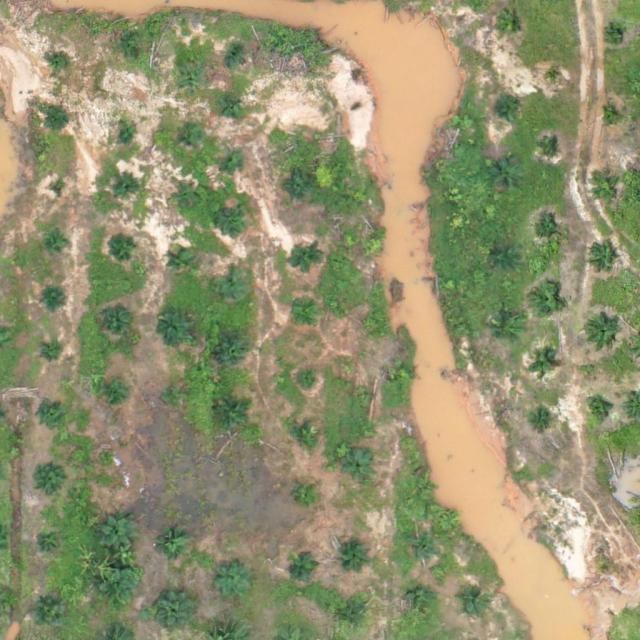Grass: (99, 514, 139, 554), (101, 570, 140, 609), (285, 173, 316, 204)
Small: (154, 308, 194, 348), (153, 529, 192, 569), (155, 592, 195, 631), (215, 268, 254, 308), (214, 562, 253, 601), (585, 313, 624, 352), (220, 336, 251, 368), (219, 400, 250, 432), (35, 464, 66, 496), (288, 420, 319, 452), (591, 174, 622, 206), (495, 11, 526, 43), (102, 307, 133, 339), (110, 232, 141, 264), (220, 205, 251, 236), (33, 595, 64, 626), (341, 538, 372, 569), (290, 553, 321, 584), (408, 535, 439, 566), (345, 453, 376, 484), (405, 588, 436, 619), (459, 587, 490, 618), (339, 603, 370, 634), (35, 528, 66, 559), (533, 218, 564, 249), (532, 286, 563, 317), (588, 245, 619, 276), (291, 245, 322, 276), (290, 301, 321, 332), (492, 161, 523, 192), (493, 318, 524, 349), (412, 476, 436, 500), (295, 483, 319, 507), (531, 352, 555, 376), (532, 409, 556, 433), (586, 398, 610, 422), (352, 384, 376, 408), (359, 313, 383, 337), (362, 235, 386, 259), (494, 99, 518, 123), (49, 50, 73, 74), (45, 291, 69, 315), (41, 341, 65, 365), (119, 121, 143, 145), (224, 147, 248, 171), (224, 93, 248, 117), (223, 46, 247, 70), (104, 381, 128, 405), (393, 360, 416, 384), (494, 247, 517, 271), (42, 109, 66, 132), (48, 182, 72, 205), (46, 234, 70, 257), (116, 174, 140, 197), (126, 46, 149, 70), (179, 69, 202, 93), (182, 127, 205, 151), (176, 187, 199, 211), (164, 385, 187, 409), (39, 401, 62, 425), (296, 372, 319, 395), (170, 252, 193, 275), (547, 70, 563, 86), (607, 27, 622, 43), (602, 109, 618, 124), (544, 140, 559, 156)
